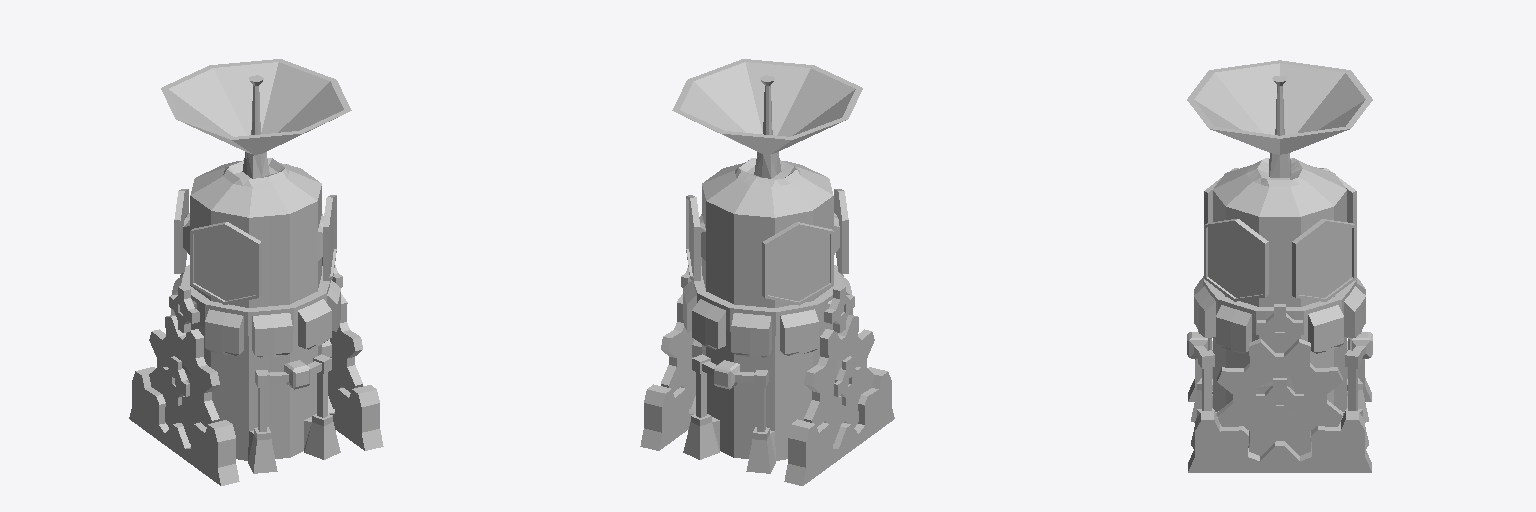
Rendered from Tower_Buff.obj.
3 renders of one model, left to right at view 1: azimuth 30°, elevation 25°; view 2: azimuth 150°, elevation 25°; view 3: azimuth 270°, elevation 25°, orthographic.
Parts seen in each view (by area): view 1: Cylinder.013_Cylinder.007; view 2: Cylinder.013_Cylinder.007; view 3: Cylinder.013_Cylinder.007.
Part boxes in pixels (x1,y1,x2,y2): Cylinder.013_Cylinder.007: (129, 59, 383, 485); Cylinder.013_Cylinder.007: (640, 59, 894, 485); Cylinder.013_Cylinder.007: (1187, 60, 1372, 472).
Size of the model in its own units: 1.49 by 3.09 by 1.47.